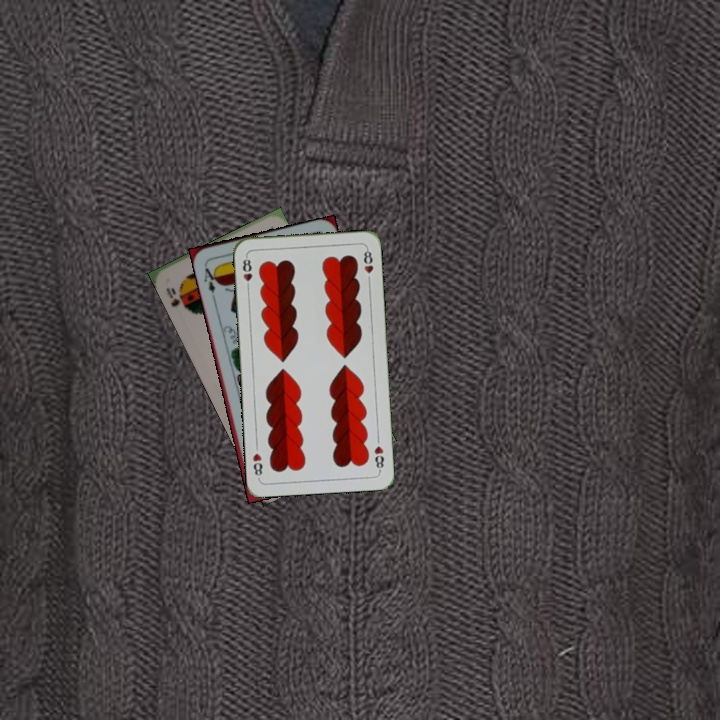EA: (200, 261, 221, 296)
H8: (239, 252, 255, 293), (370, 442, 386, 474)
SO: (162, 283, 182, 309)
